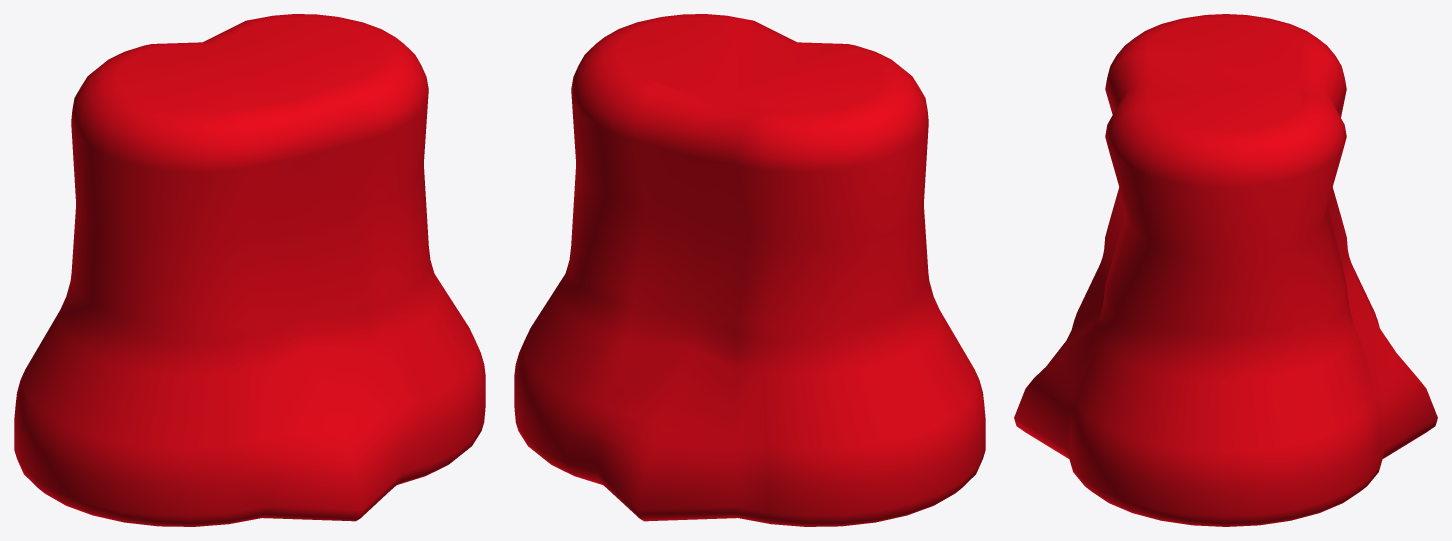
File: Sucker tool.fbx
3 renders of one model, left to right at view 1: azimuth 30°, elevation 25°; view 2: azimuth 150°, elevation 25°; view 3: azimuth 270°, elevation 25°, orthographic. The views are drawn at different scales.
Visible parts, largest first — view 1: Sucker Tool; view 2: Sucker Tool; view 3: Sucker Tool.
Part boxes in pixels (<box>): Sucker Tool: <box>14,14,485,526</box>; Sucker Tool: <box>514,14,985,526</box>; Sucker Tool: <box>1014,14,1437,526</box>.
Bounding box in the file's own units: 142 × 121 × 129.
1 material, 1 textured.
